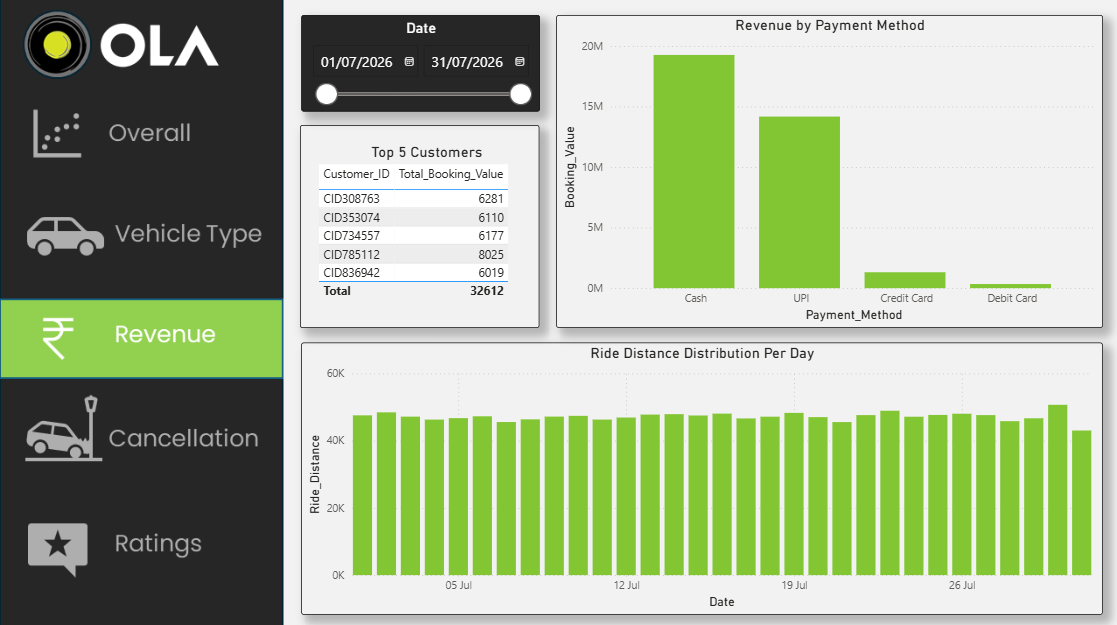

The page's visual inventory and layout, read from the dashboard file:
{"tool":"powerbi","page":{"name":"Revenue","canvas":[1280,720],"ordinal":2},"visuals":[{"type":"actionButton","box":[0,222.1,322.7,92],"z":0},{"type":"actionButton","box":[0,445.4,322.7,92],"z":1000},{"type":"actionButton","box":[0,577.9,322.7,92],"z":2000},{"type":"actionButton","box":[1.2,108,322.7,92],"z":3000},{"type":"columnChart","title":"Revenue by Payment Method","fields":{"Category":["July.Payment_Method"],"Y":["Sum(July.Booking_Value)"]},"box":[635.6,17.8,624.4,357.8],"z":4000},{"type":"columnChart","title":"Ride Distance Distribution Per Day","fields":{"Y":["Sum(July.Ride_Distance)"],"Category":["July.Date"]},"box":[344.3,391.4,915.7,311.4],"z":7000},{"type":"slicer","title":"Date","fields":{"Values":["July.Date"]},"box":[343.6,16.4,272.9,110],"z":8000},{"type":"tableEx","title":"Top 5 Customers","fields":{"Values":["July.Customer_ID","Sum(July.Booking_Value)"]},"box":[343.3,143.3,273.3,232.2],"z":9000}]}

Visuals, with their boxes on the page's 1280x720 design canvas (x1, y1, x2, y2). These are canvas units, not pixel positions in the 1117x625 screenshot, which may show the page scaled, cropped or inside an application window:
actionButton: box(0, 222, 323, 314)
actionButton: box(0, 445, 323, 537)
actionButton: box(0, 578, 323, 670)
actionButton: box(1, 108, 324, 200)
"Revenue by Payment Method" columnChart: box(636, 18, 1260, 376)
"Ride Distance Distribution Per Day" columnChart: box(344, 391, 1260, 703)
"Date" slicer: box(344, 16, 616, 126)
"Top 5 Customers" tableEx: box(343, 143, 617, 376)
